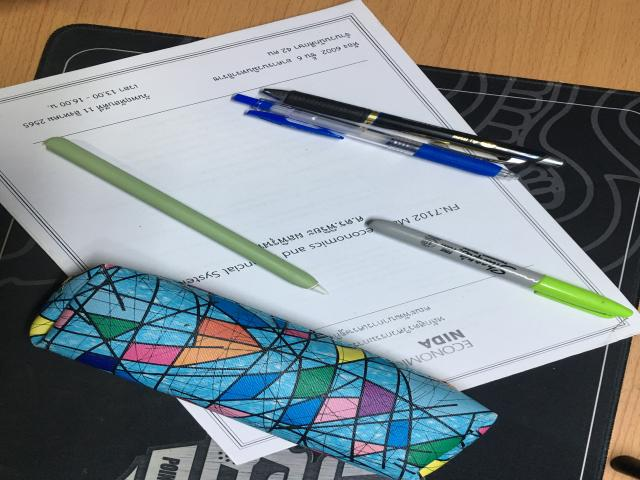Pen: (368, 219, 633, 319), (233, 94, 518, 179), (262, 88, 563, 167)
paper: (2, 0, 638, 467)
